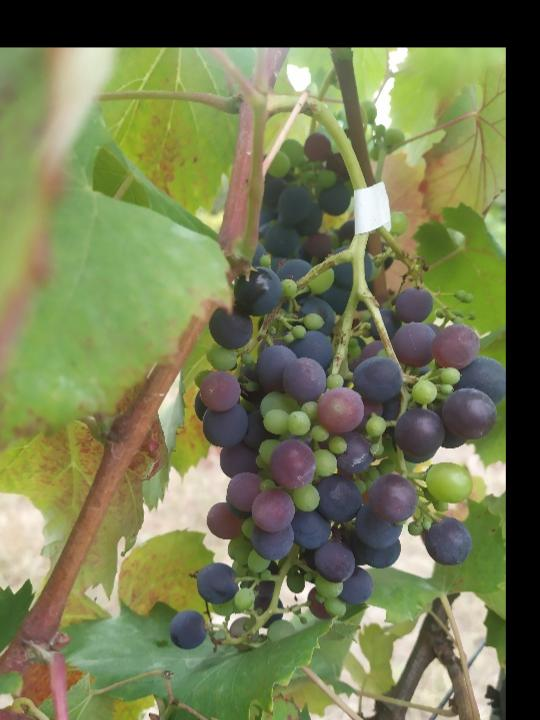grape: (166, 244, 506, 653)
